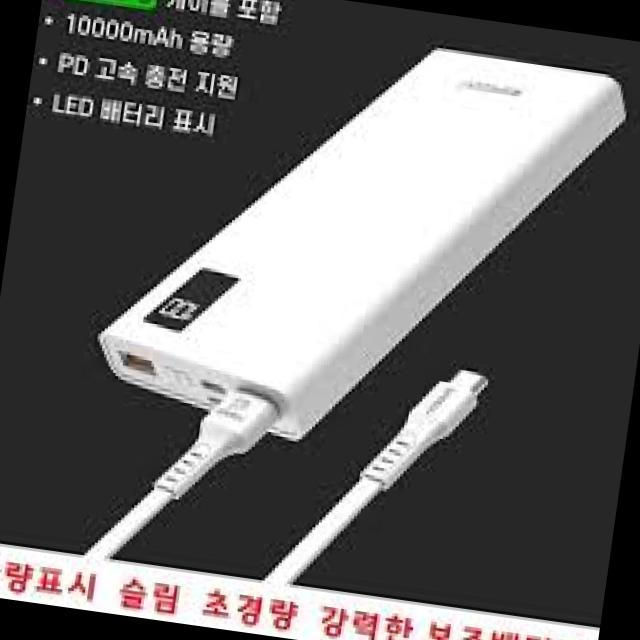portable-charger: (82, 0, 639, 482)
